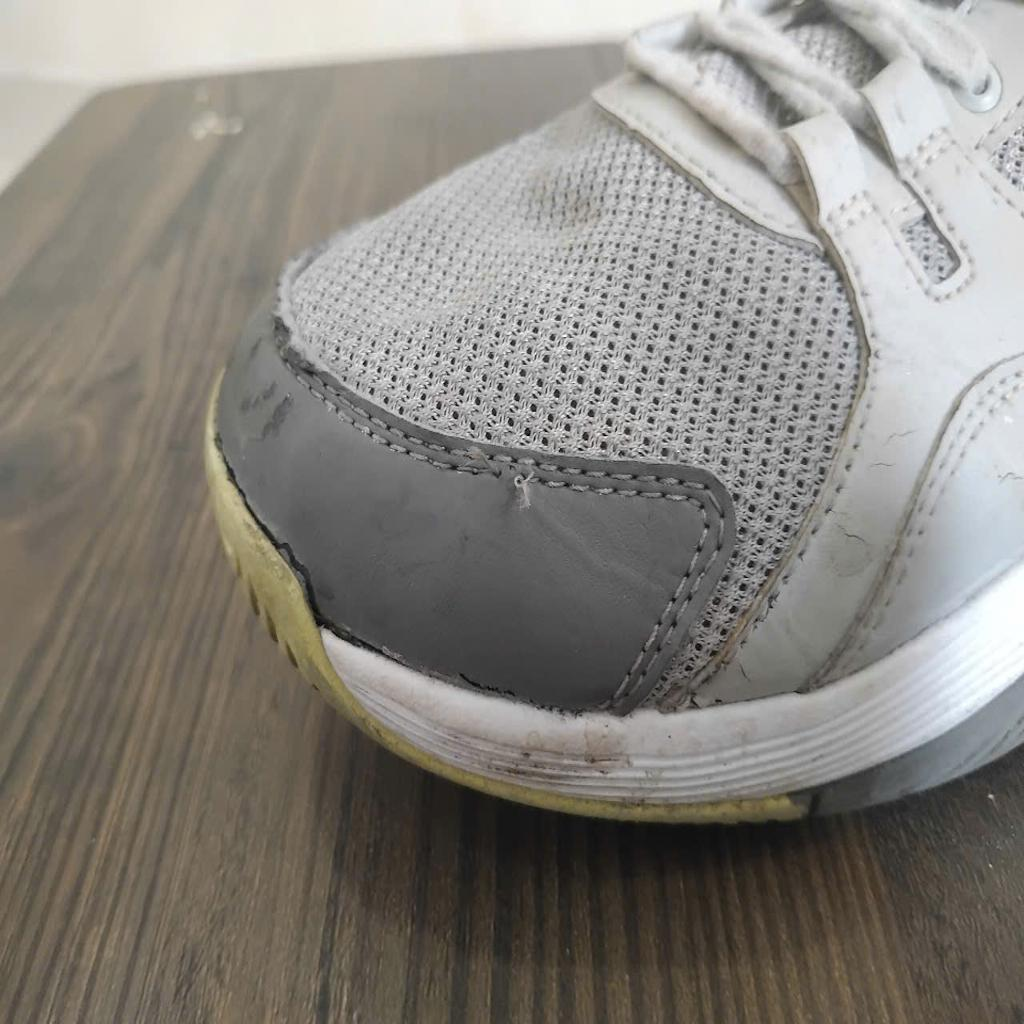broken: (467, 444, 536, 509)
